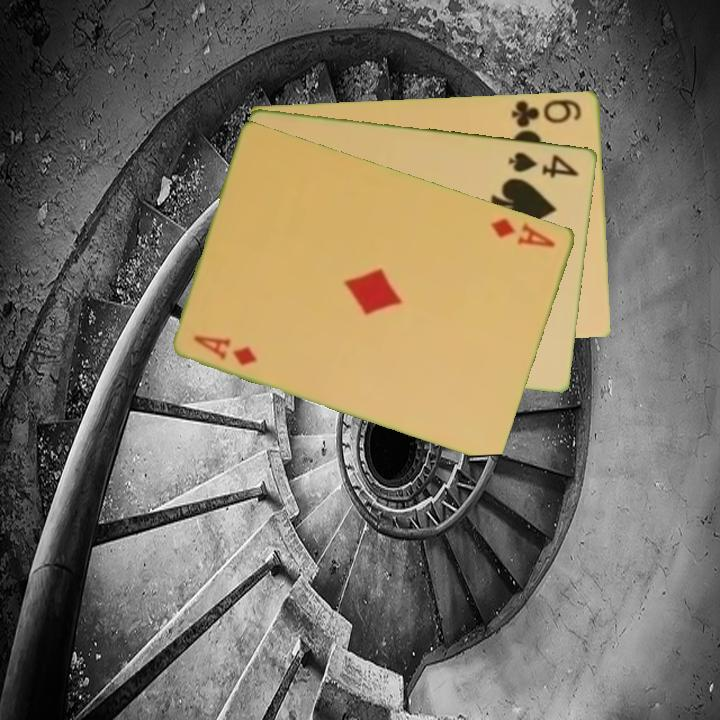4s: (505, 148, 582, 181)
6c: (508, 95, 585, 130)
Ad: (191, 331, 261, 369), (488, 214, 559, 251)
